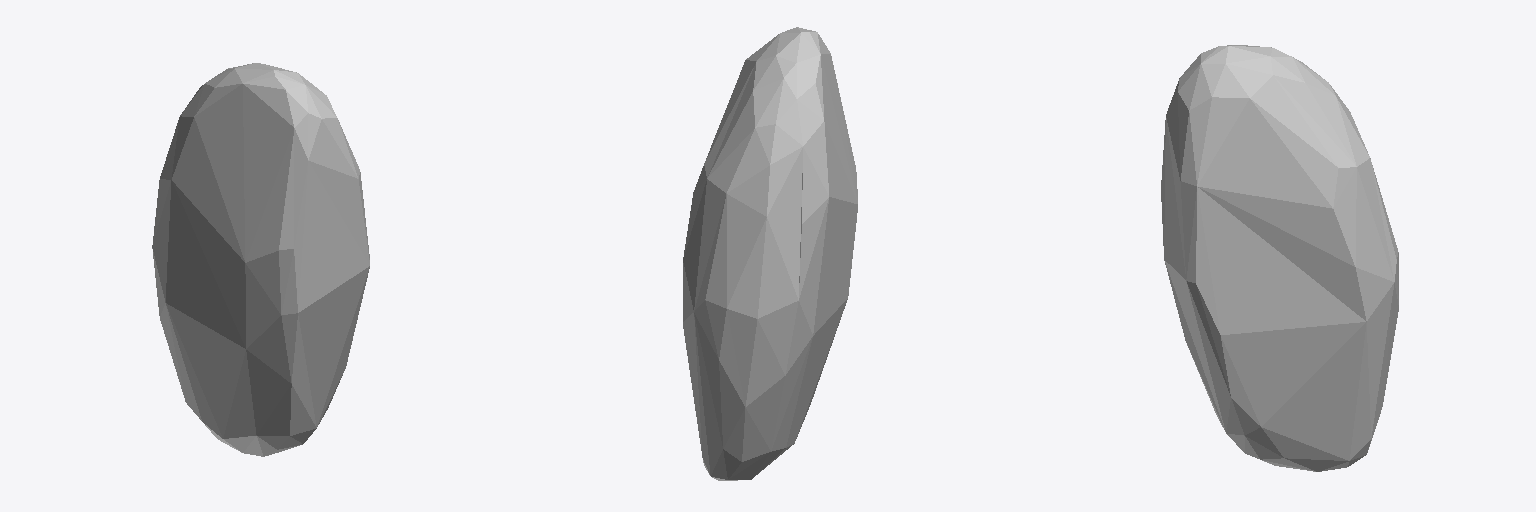
Rendered from pedra.obj.
The picture shows the model from 3 angles: view 1: azimuth 30°, elevation 25°; view 2: azimuth 150°, elevation 25°; view 3: azimuth 270°, elevation 25°; orthographic projection.
Parts seen in each view (by area): view 1: Ico_Sphere.001; view 2: Ico_Sphere.001; view 3: Ico_Sphere.001.
Boxes of the visible parts, box(x1,y1,x2,y2) form: Ico_Sphere.001: box(152, 63, 369, 456); Ico_Sphere.001: box(683, 27, 857, 480); Ico_Sphere.001: box(1161, 45, 1398, 471).
Size of the model in its own units: 2.13 by 5.76 by 3.01.